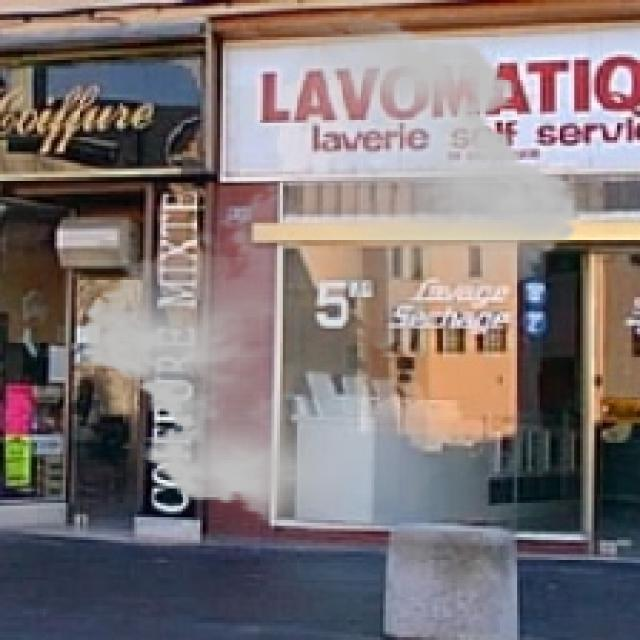Smoke: (66, 11, 594, 532)
